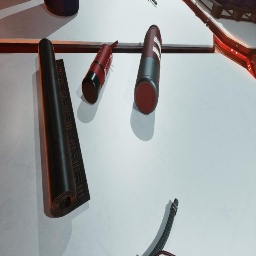FireExtinguisher ]: (82, 40, 118, 104)
NitrogenTank ,: (134, 24, 162, 114)
